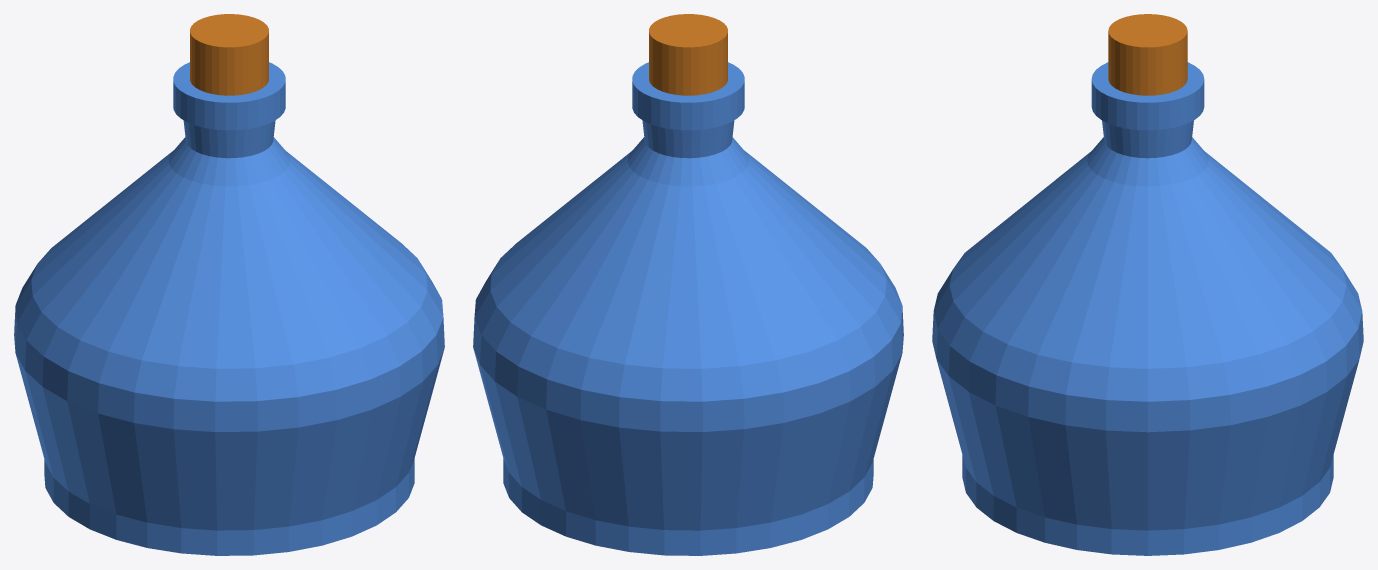
The model's file is botellas5.fbx.
The picture shows the model from 3 angles, left to right: view 1: azimuth 30°, elevation 25°; view 2: azimuth 150°, elevation 25°; view 3: azimuth 270°, elevation 25°; orthographic projection.
Visible parts, largest first — view 1: Botella2; view 2: Botella2; view 3: Botella2.
Part boxes in pixels (box(x1,y1,x2,y2)): Botella2: box(14, 14, 444, 555); Botella2: box(473, 14, 903, 555); Botella2: box(932, 14, 1363, 555).
Bounding box in the file's own units: 232 × 266 × 232.
